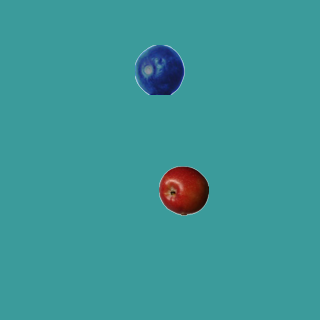Apple Braeburn: (158, 165, 208, 215)
Huckleberry: (134, 44, 184, 94)
